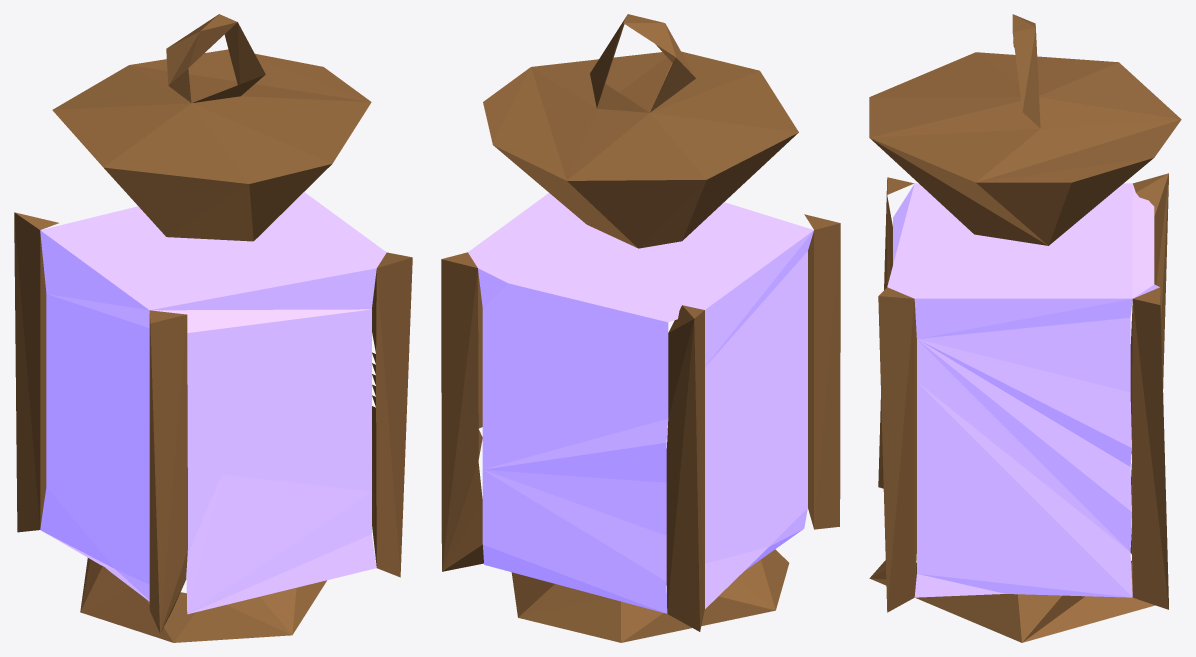
Rendered from warden_lantern.glb.
The picture shows the model from 3 angles, left to right: view 1: azimuth 30°, elevation 25°; view 2: azimuth 150°, elevation 25°; view 3: azimuth 270°, elevation 25°; orthographic projection.
Visible parts, largest first — view 1: warden_lantern; view 2: warden_lantern; view 3: warden_lantern.
Part boxes in pixels (box(x1,y1,x2,y2)): warden_lantern: box(14, 14, 412, 642); warden_lantern: box(441, 14, 840, 642); warden_lantern: box(869, 14, 1181, 642).
Bounding box in the file's own units: 0.5204 × 1.12 × 0.5263.
